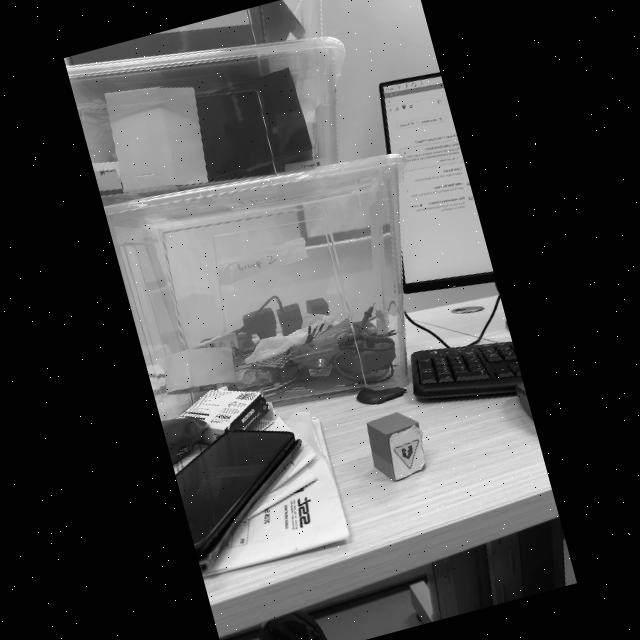Earthquake: (394, 438, 419, 468)
